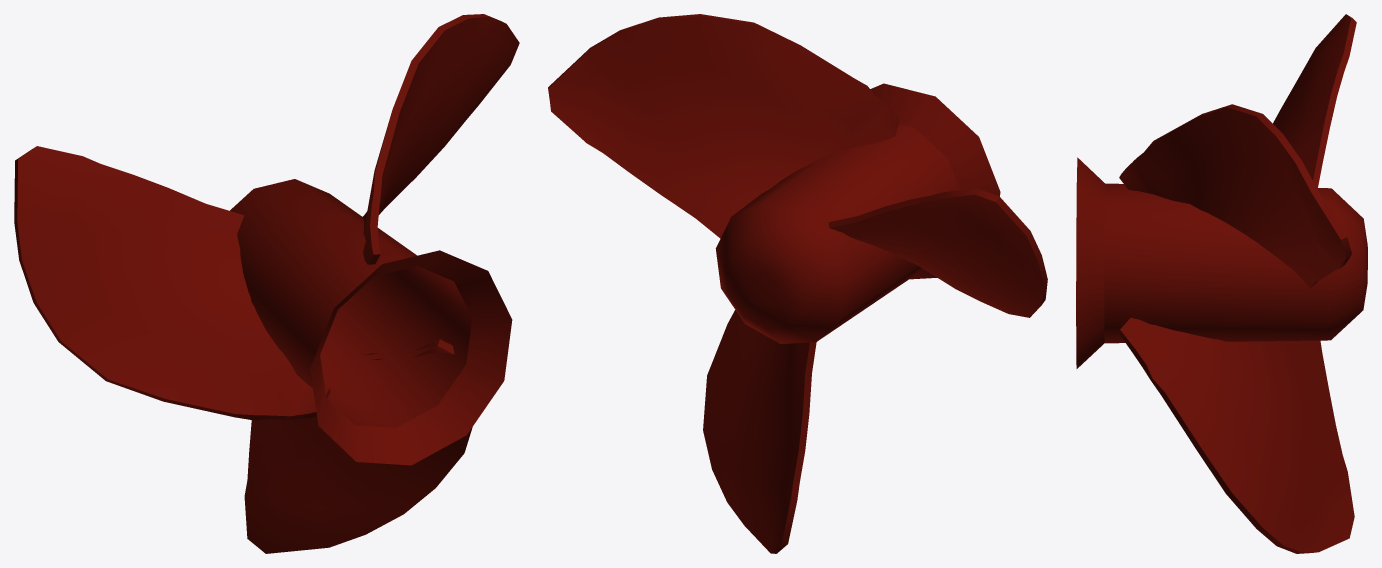
File: Submarine_rotor.fbx
3 views of the same model, side by side, from view 1: azimuth 30°, elevation 25°; view 2: azimuth 150°, elevation 25°; view 3: azimuth 270°, elevation 25° (orthographic). The views are drawn at different scales.
Parts seen in each view (by area): view 1: Box003; view 2: Box003; view 3: Box003.
Part boxes in pixels (x1,y1,x2,y2): Box003: (14,14,519,553); Box003: (548,14,1047,553); Box003: (1076,14,1367,553).
Bounding box in the file's own units: 65.39 × 63.39 × 34.74.
